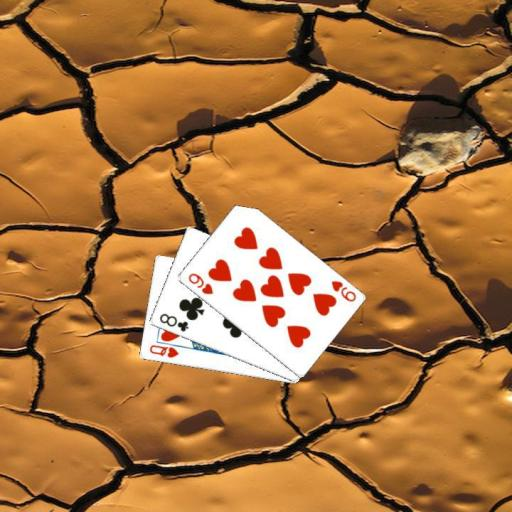8C: (156, 310, 190, 334)
9H: (185, 269, 214, 296), (328, 277, 358, 303)
QH: (146, 342, 180, 360)
